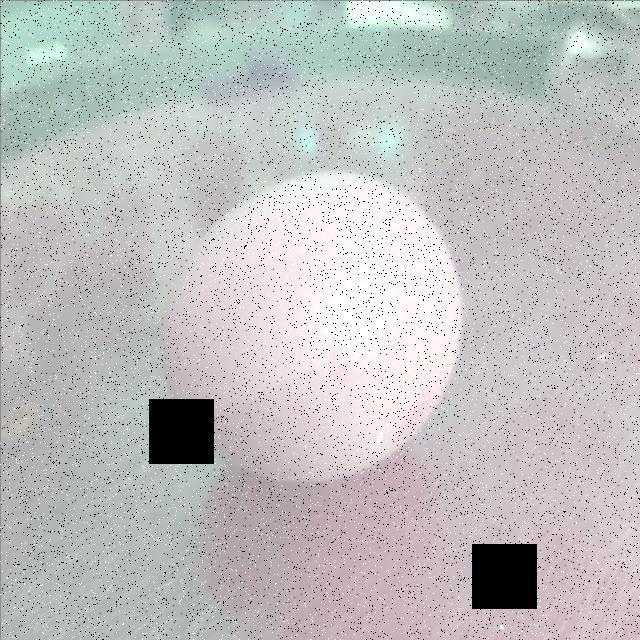egg: (148, 162, 474, 486)
